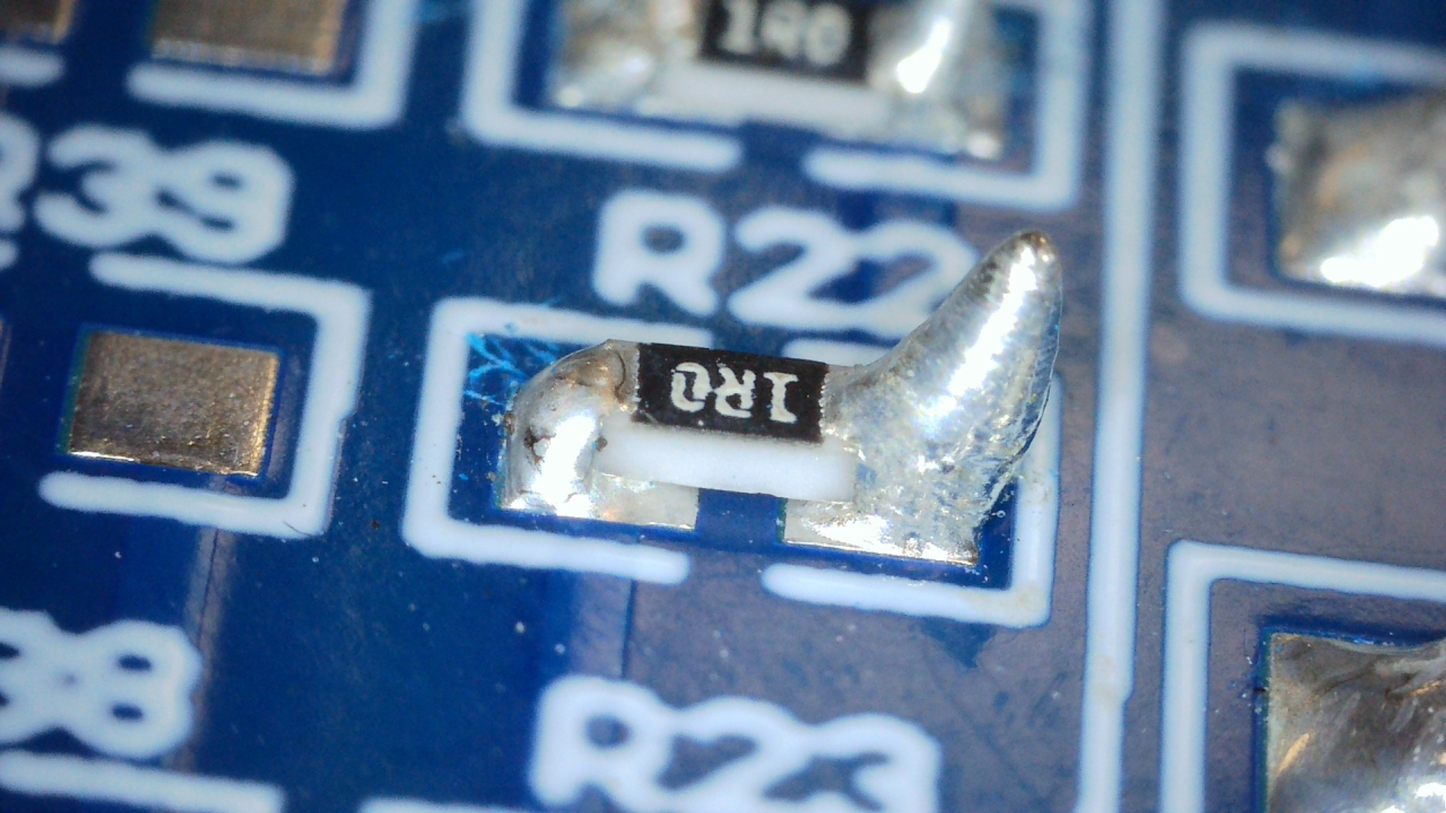NG: (824, 226, 1062, 555), (508, 341, 639, 511)
